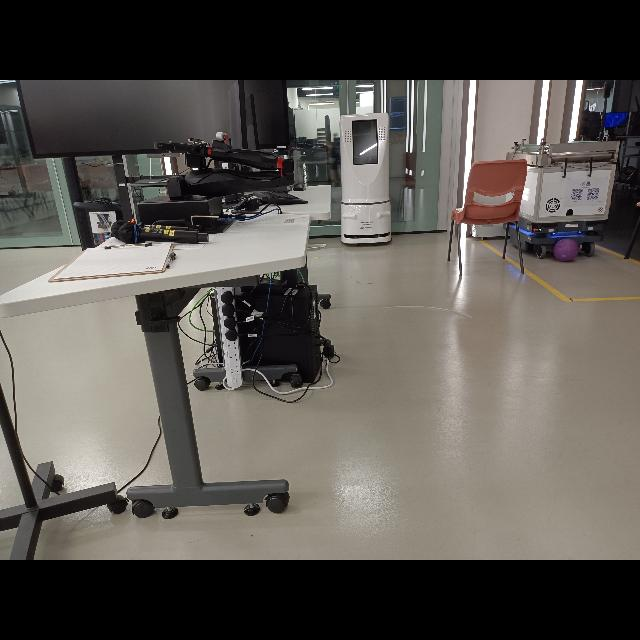P: (554, 238, 578, 262)
